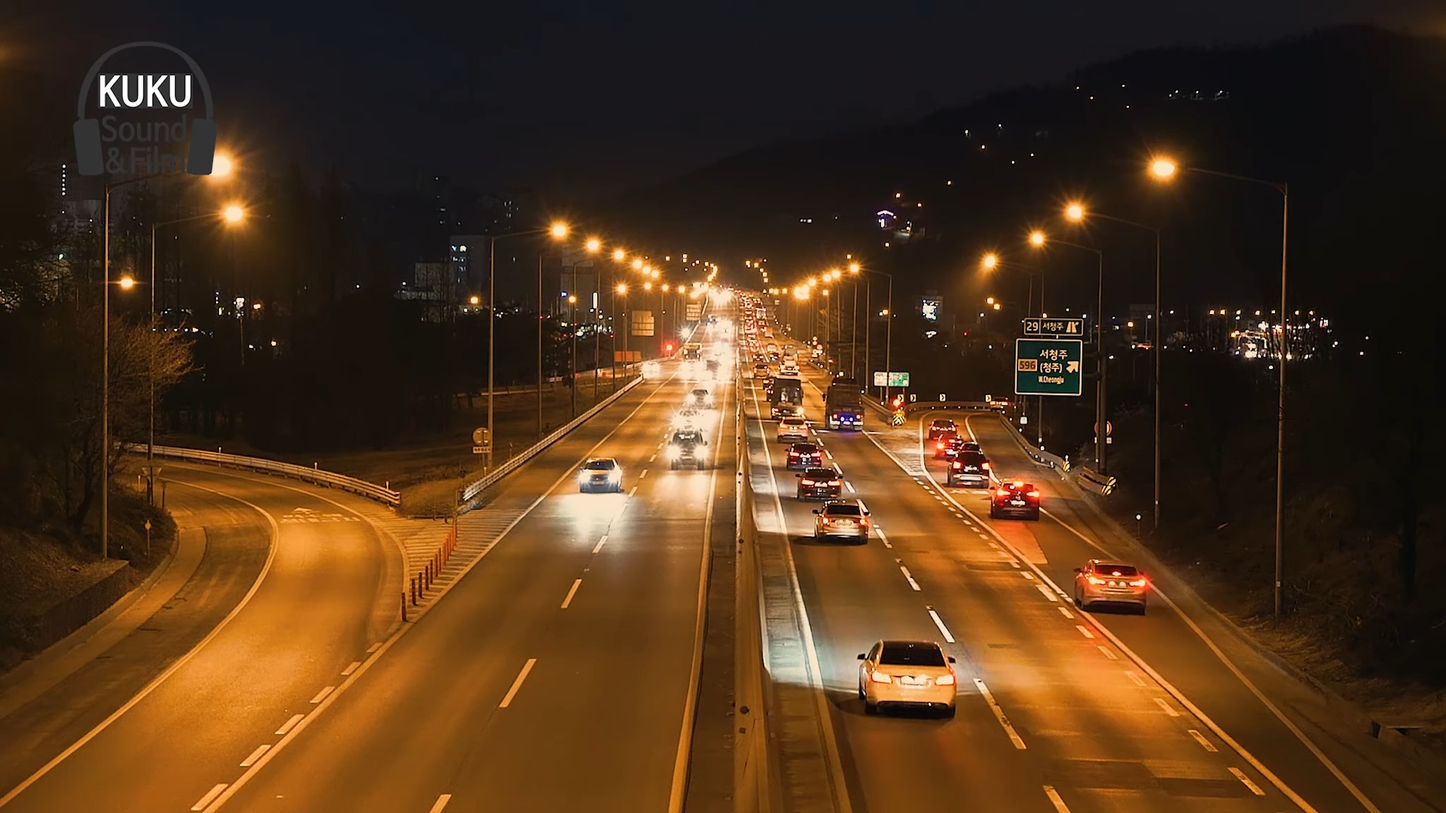car: (849, 632, 969, 716), (1074, 561, 1158, 618), (985, 480, 1045, 528), (812, 503, 874, 545), (576, 461, 624, 494)
